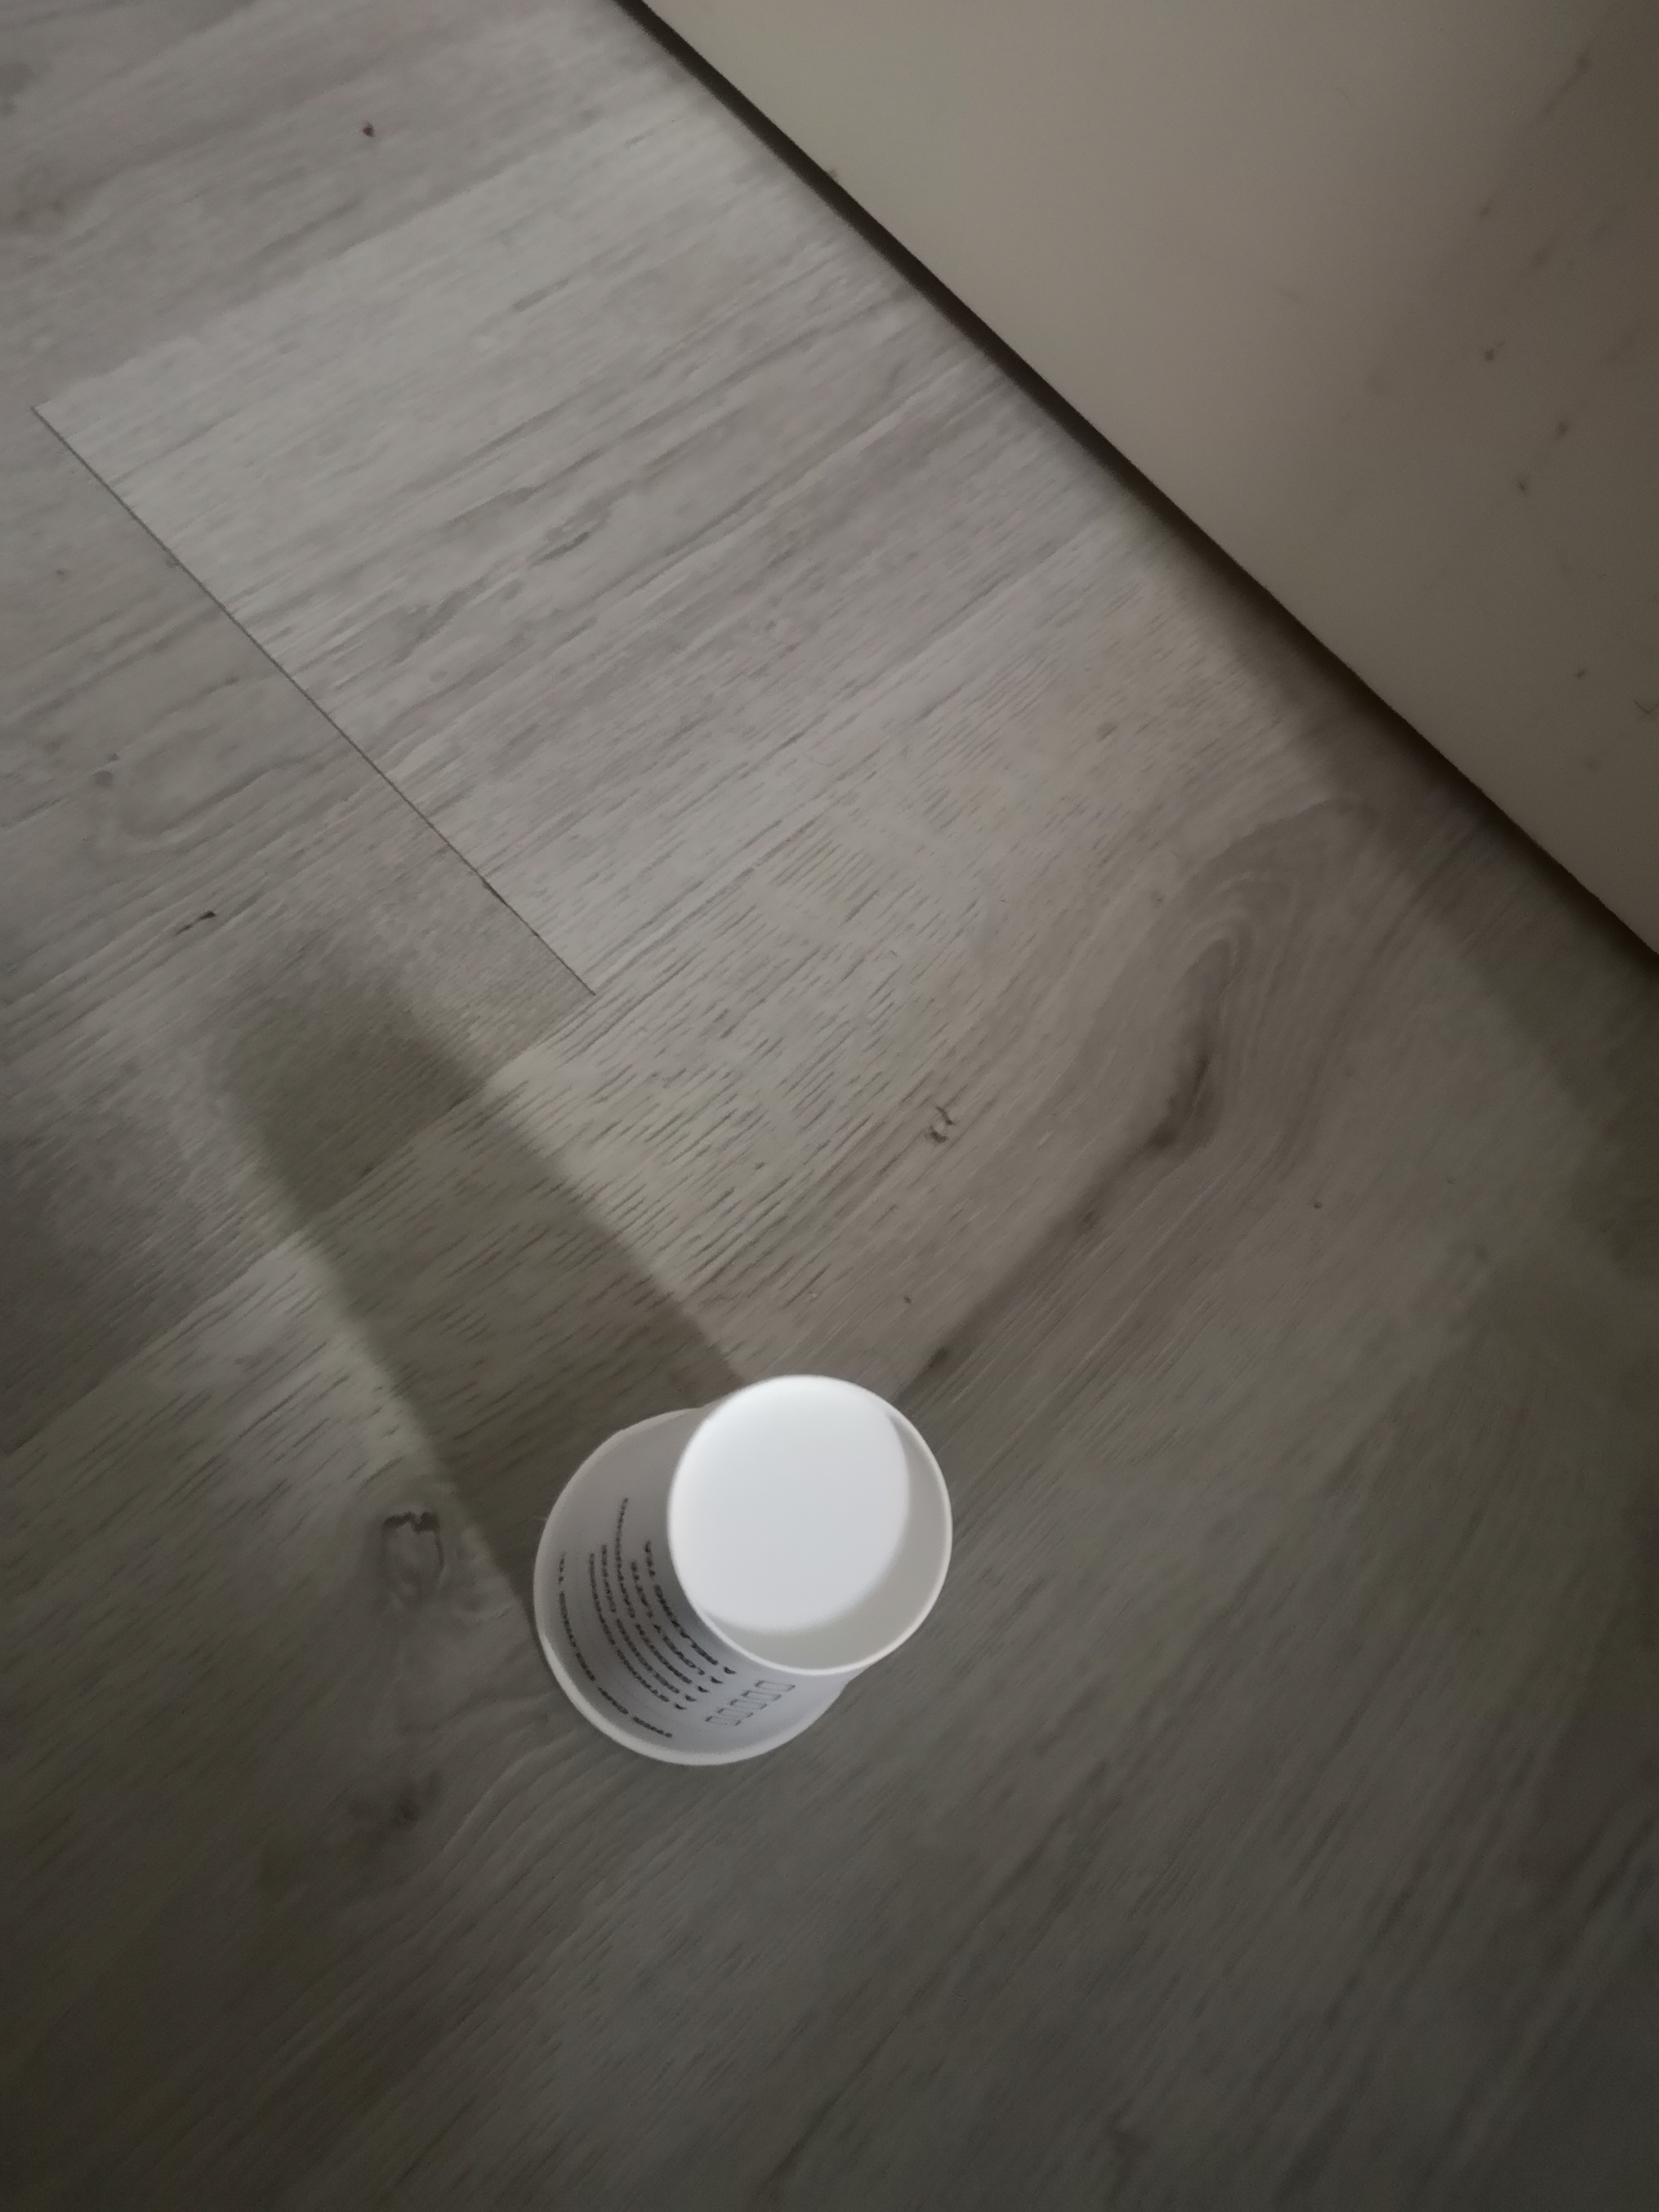cup: (504, 1338, 1002, 1782)
